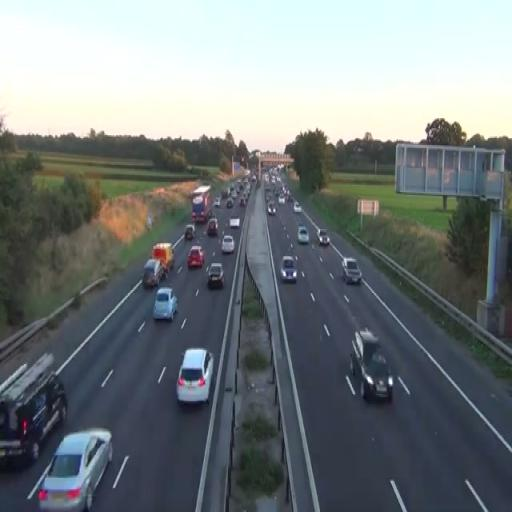Car: (37, 428, 113, 511), (350, 328, 394, 403), (176, 348, 214, 406), (153, 287, 178, 322), (142, 258, 164, 288), (341, 258, 362, 284), (206, 262, 225, 290), (280, 255, 298, 284), (187, 244, 205, 268), (221, 234, 235, 254), (206, 218, 219, 238), (316, 228, 330, 246), (297, 225, 309, 244), (230, 217, 240, 230)
Truck: (0, 350, 68, 471), (190, 185, 212, 223), (152, 242, 175, 272)
